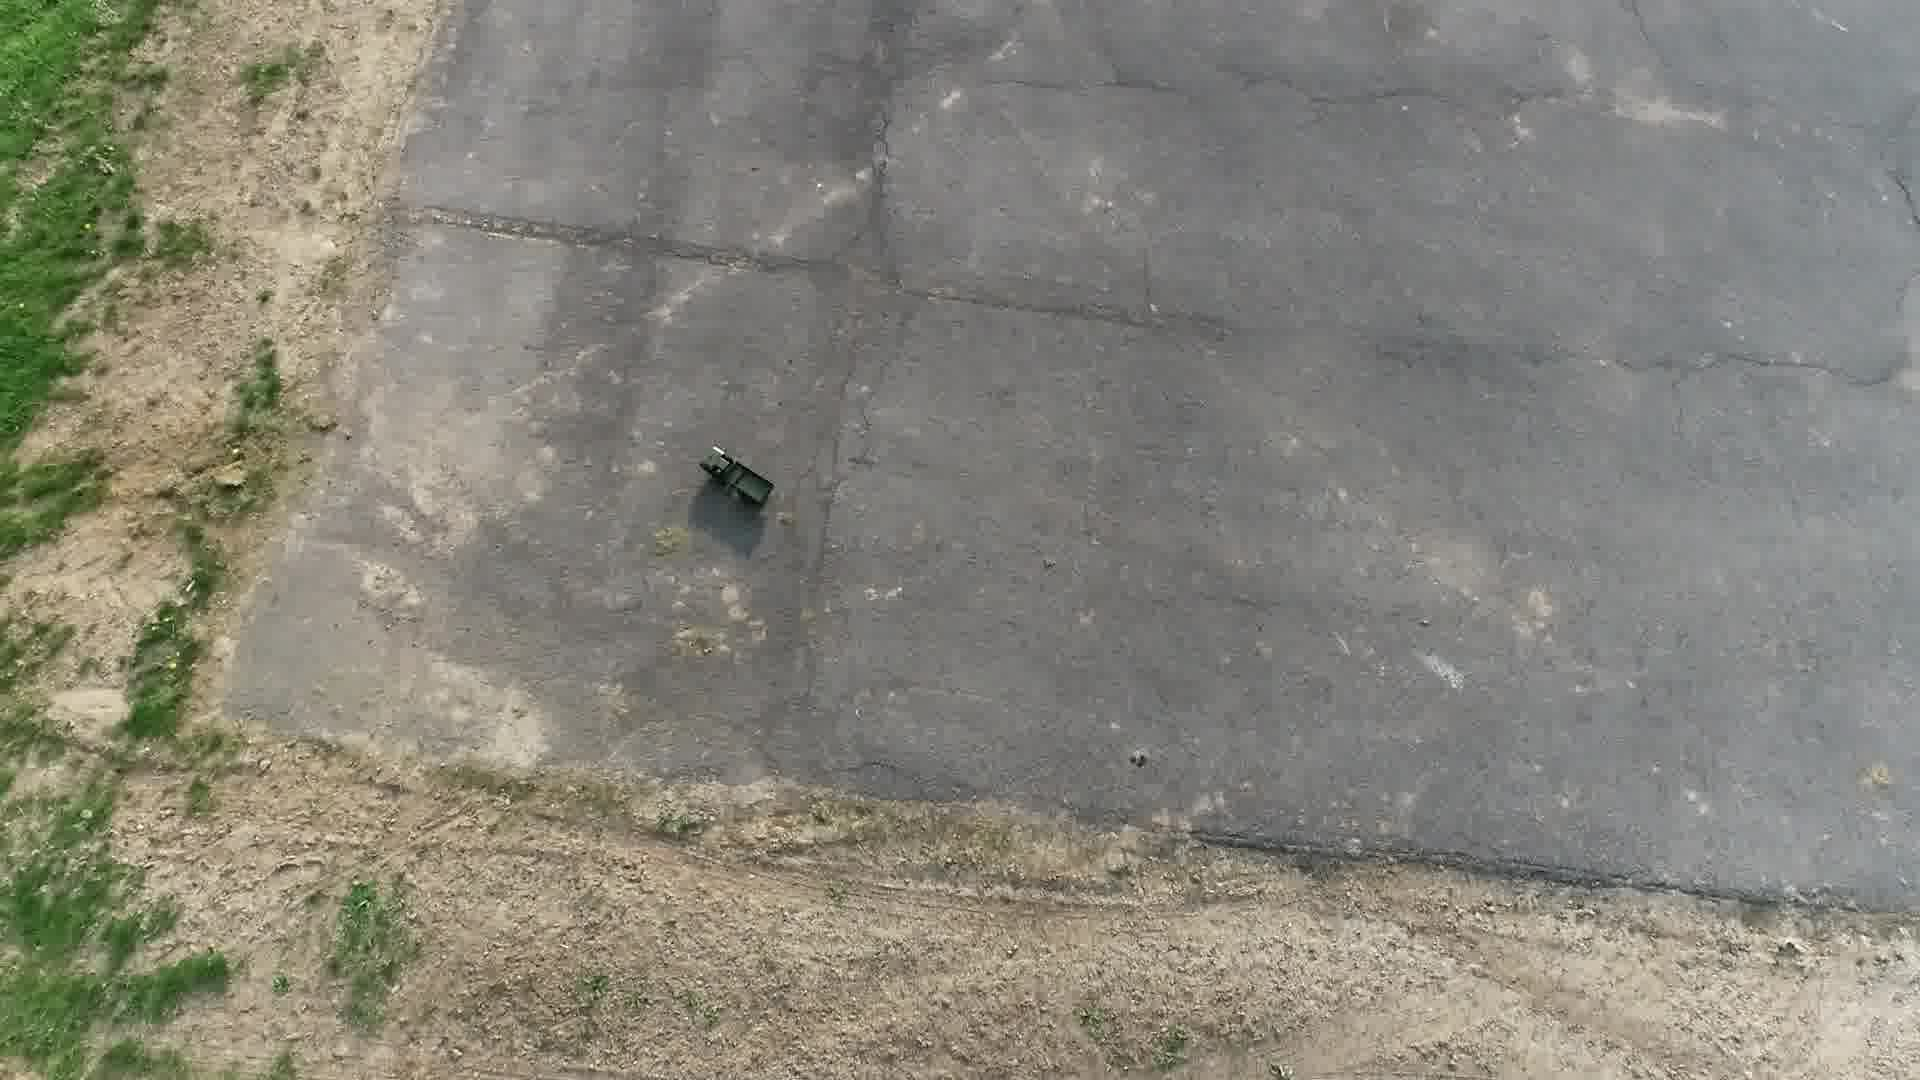transporter9: (690, 442, 779, 512)
